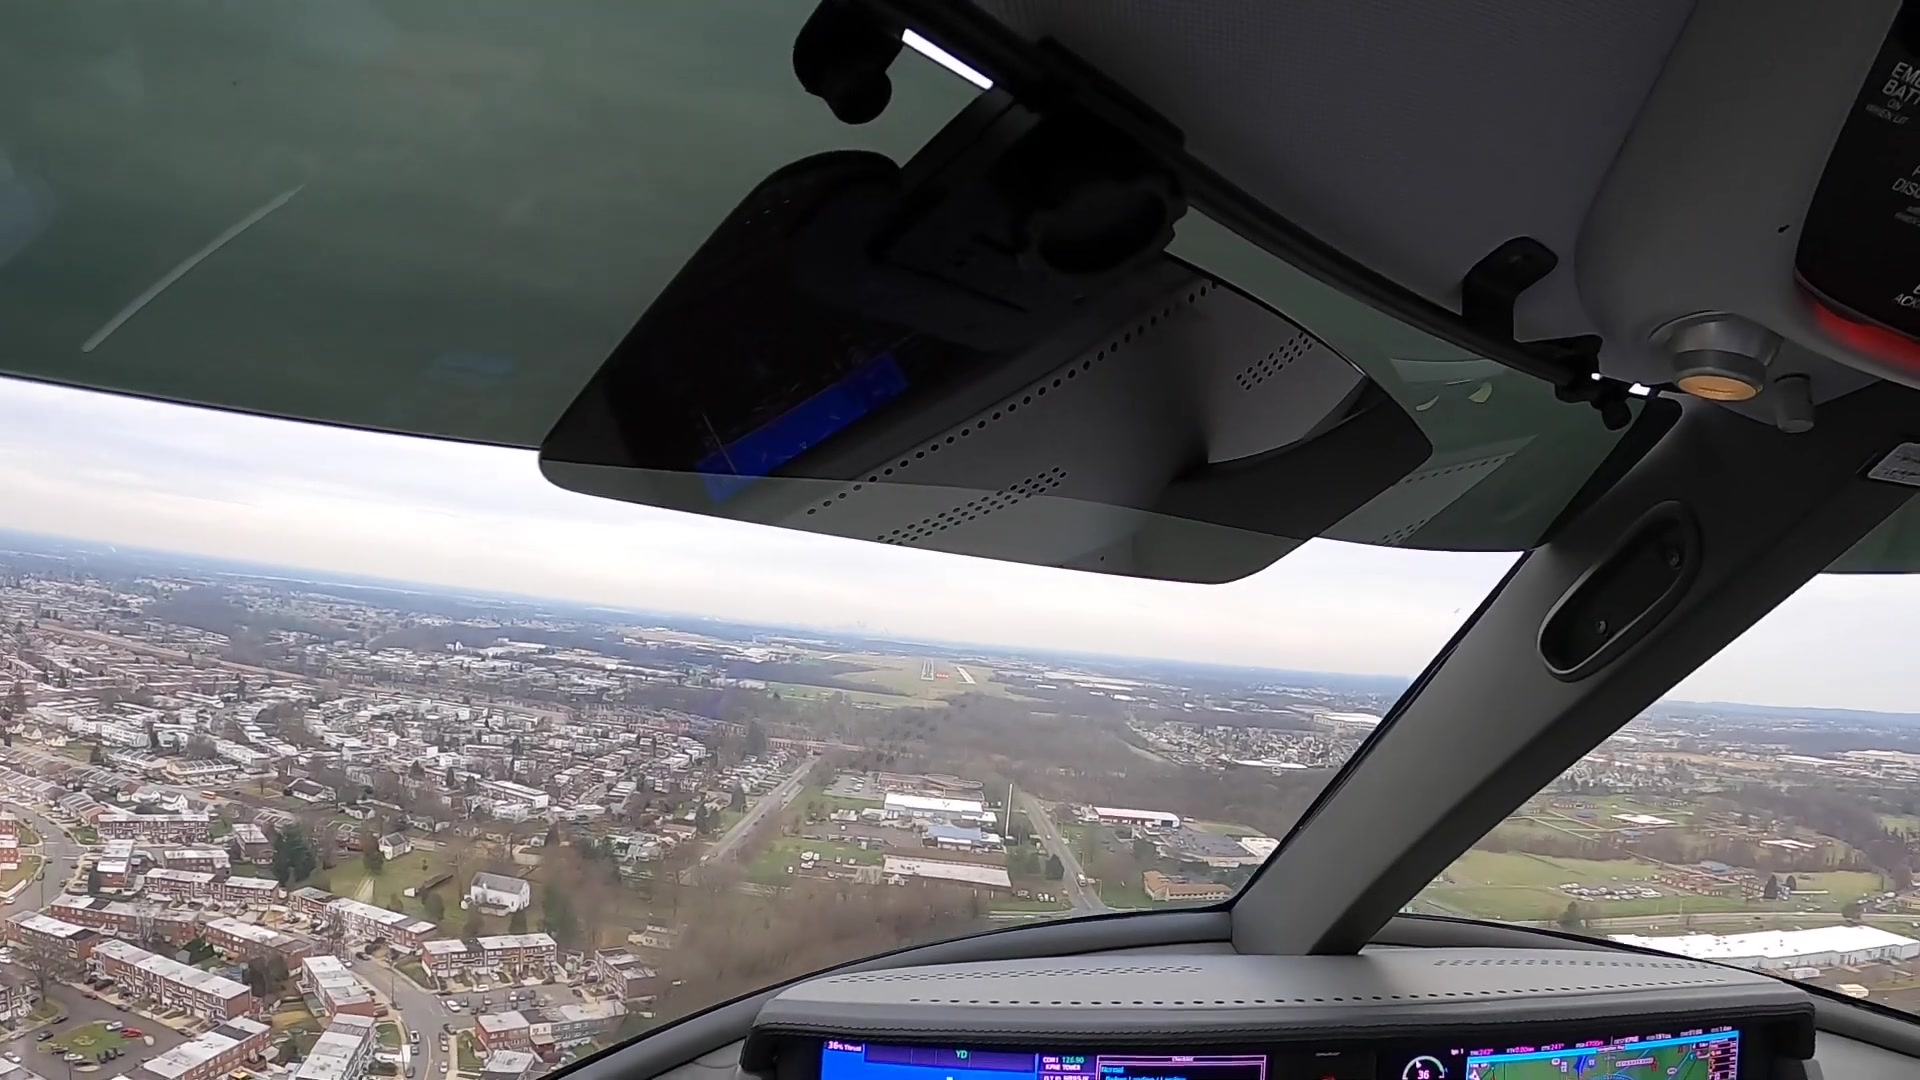runway: (918, 659, 936, 680)
